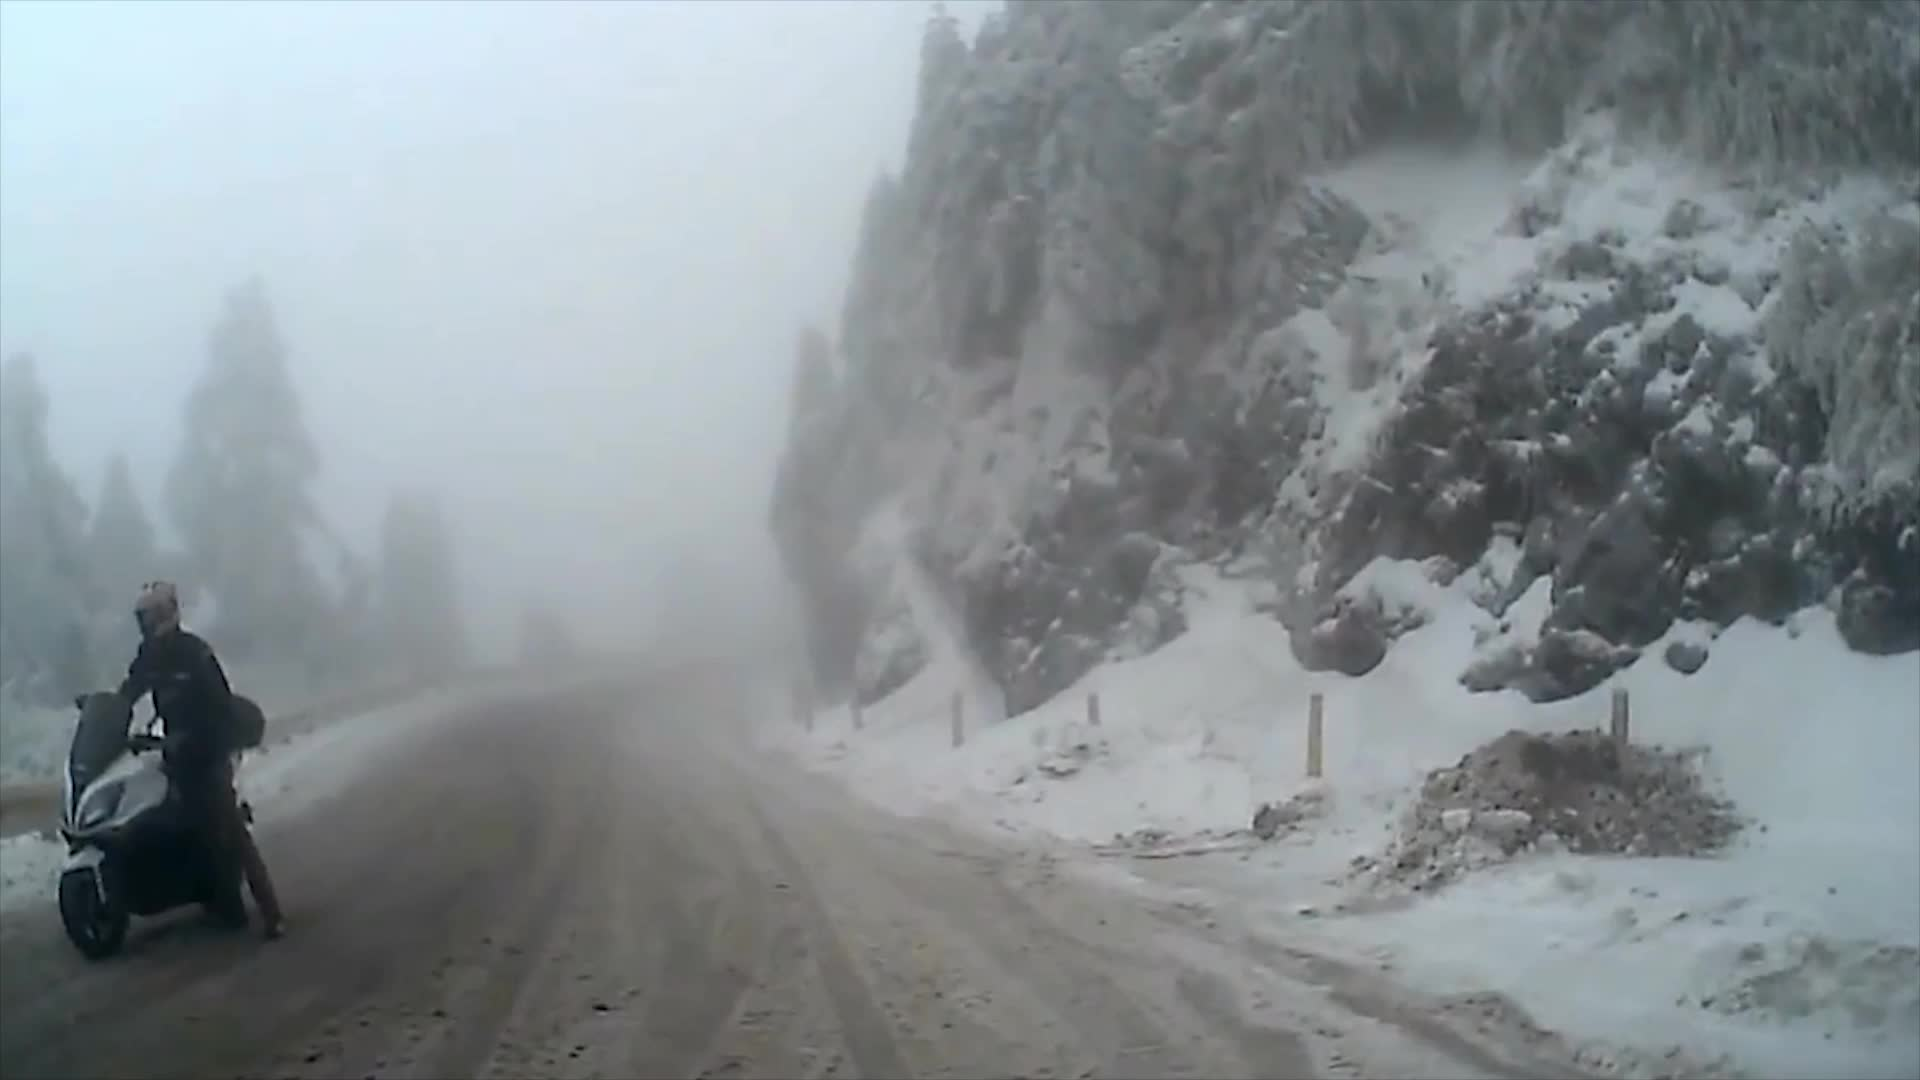pedestrian: (91, 568, 288, 938)
